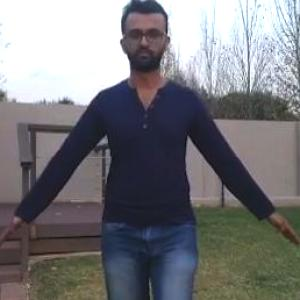land: (29, 25, 274, 299)
